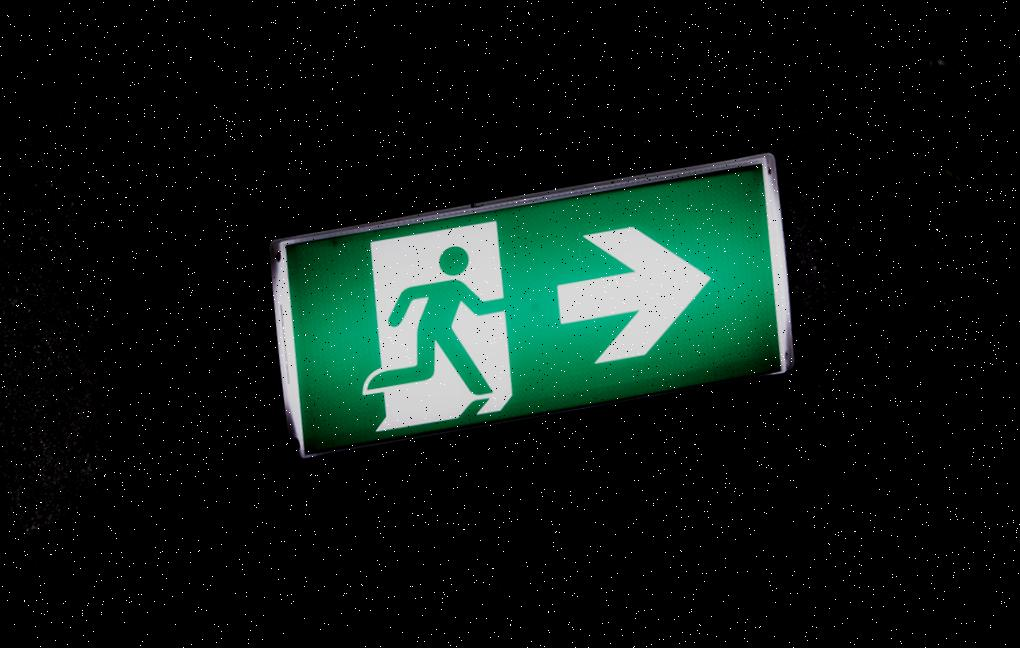emergency_exit: (269, 152, 795, 459)
